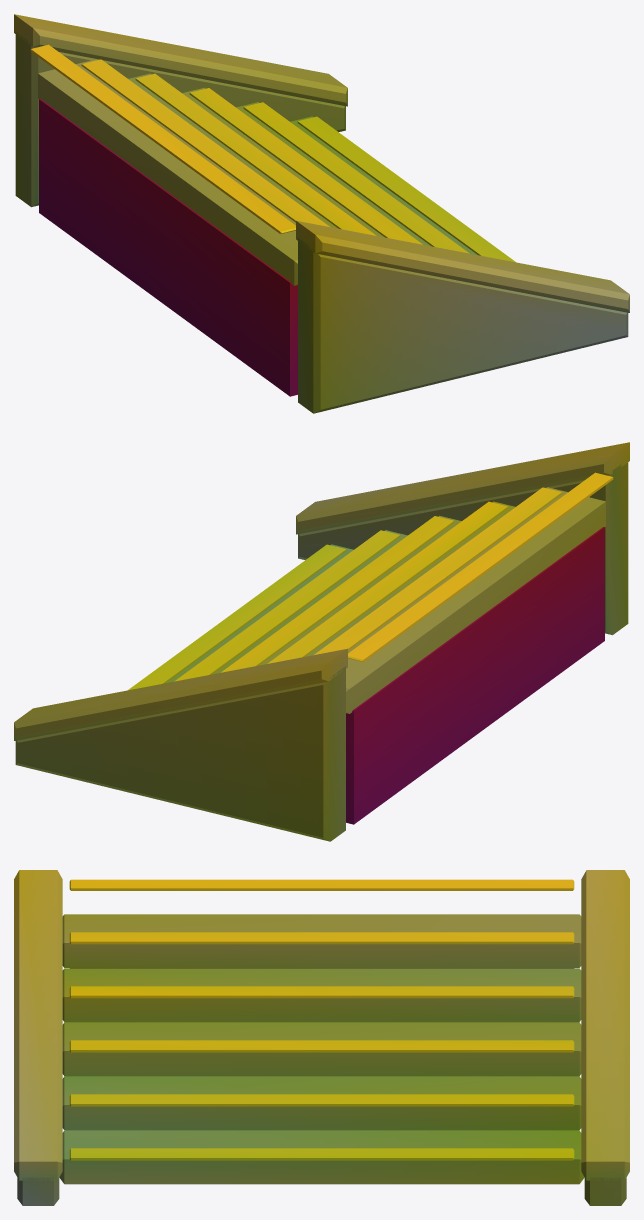
File: Platform_Stairs_End.fbx
3 renders of one model, top to bottom at view 1: azimuth 30°, elevation 25°; view 2: azimuth 150°, elevation 25°; view 3: azimuth 270°, elevation 25°, orthographic.
Parts seen in each view (by area): view 1: Platform_Stairs_End; view 2: Platform_Stairs_End; view 3: Platform_Stairs_End.
Part boxes in pixels (<box>): Platform_Stairs_End: <box>14,14,629,413</box>; Platform_Stairs_End: <box>14,442,629,841</box>; Platform_Stairs_End: <box>14,870,629,1205</box>.
Size of the model in its own units: 2.16 by 1.15 by 3.54.
